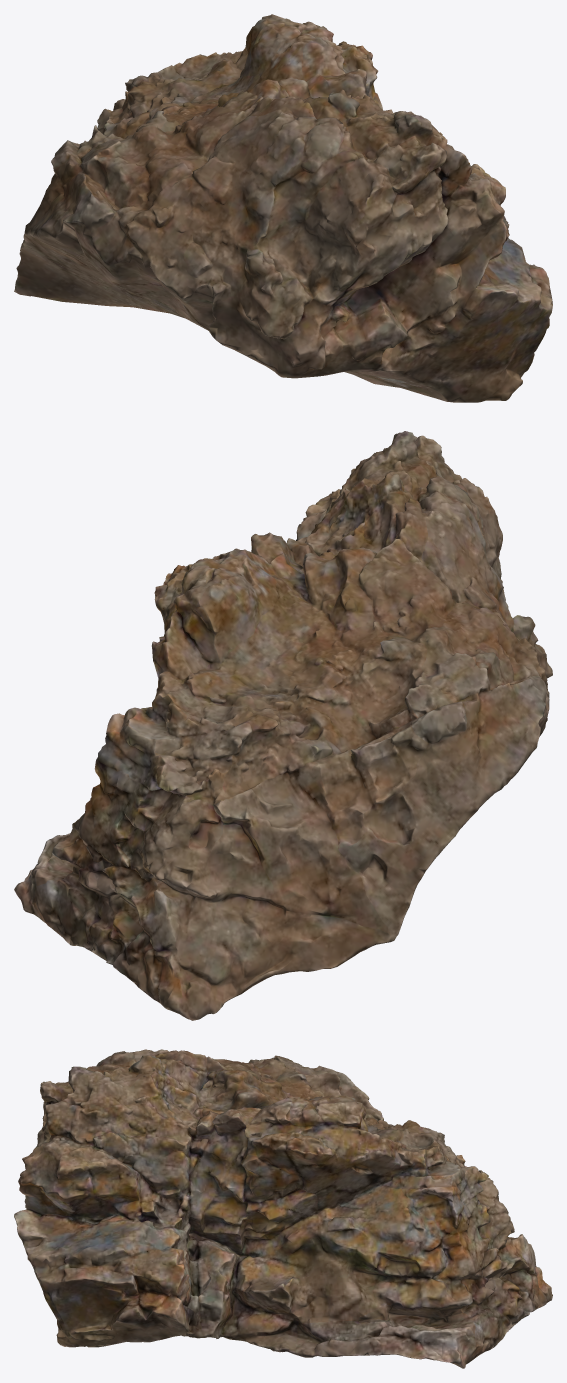
File: boulder.glb
3 renders of one model, top to bottom at view 1: azimuth 30°, elevation 25°; view 2: azimuth 150°, elevation 25°; view 3: azimuth 270°, elevation 25°, orthographic. The views are drawn at different scales.
Parts seen in each view (by area): view 1: boulder_01; view 2: boulder_01; view 3: boulder_01.
Part boxes in pixels (bbox=[...]): boulder_01: bbox=[14, 14, 552, 402]; boulder_01: bbox=[14, 431, 552, 1020]; boulder_01: bbox=[14, 1049, 552, 1368].
Bounding box in the file's own units: 1.27 × 1 × 1.83.
Materials: 1 (1 with a texture image).
